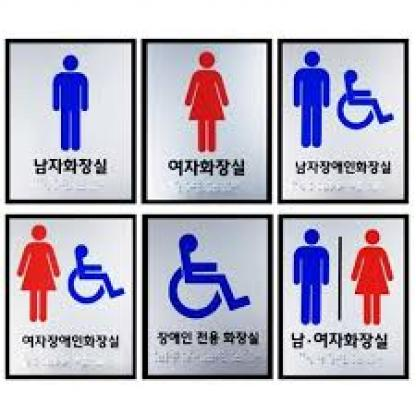toilet: (16, 223, 126, 324), (293, 48, 397, 154), (291, 224, 396, 325), (165, 231, 254, 320), (182, 47, 232, 153), (48, 54, 94, 153)
